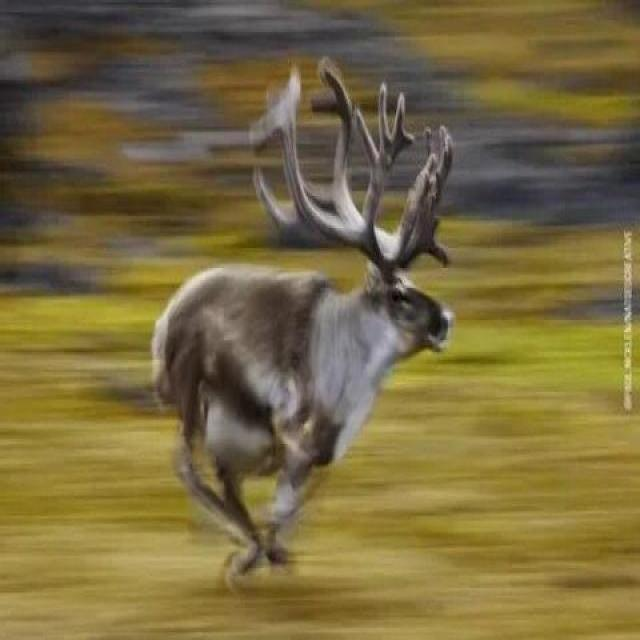deer: (118, 162, 498, 570)
